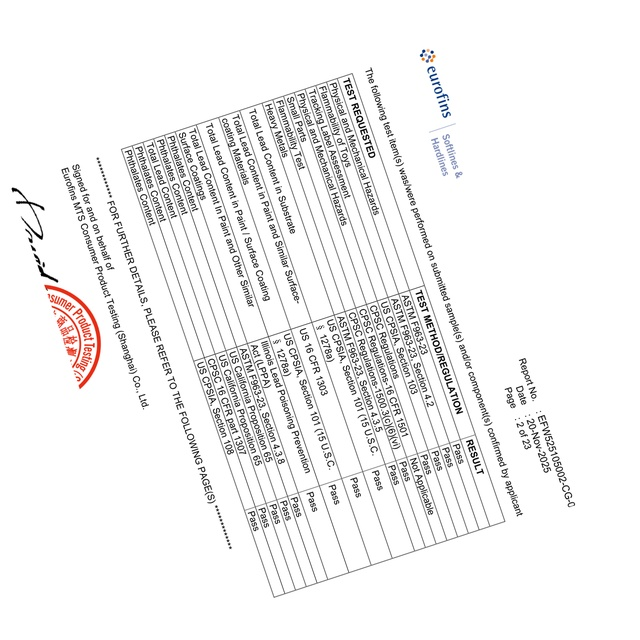eurofins: (416, 47, 459, 120)
